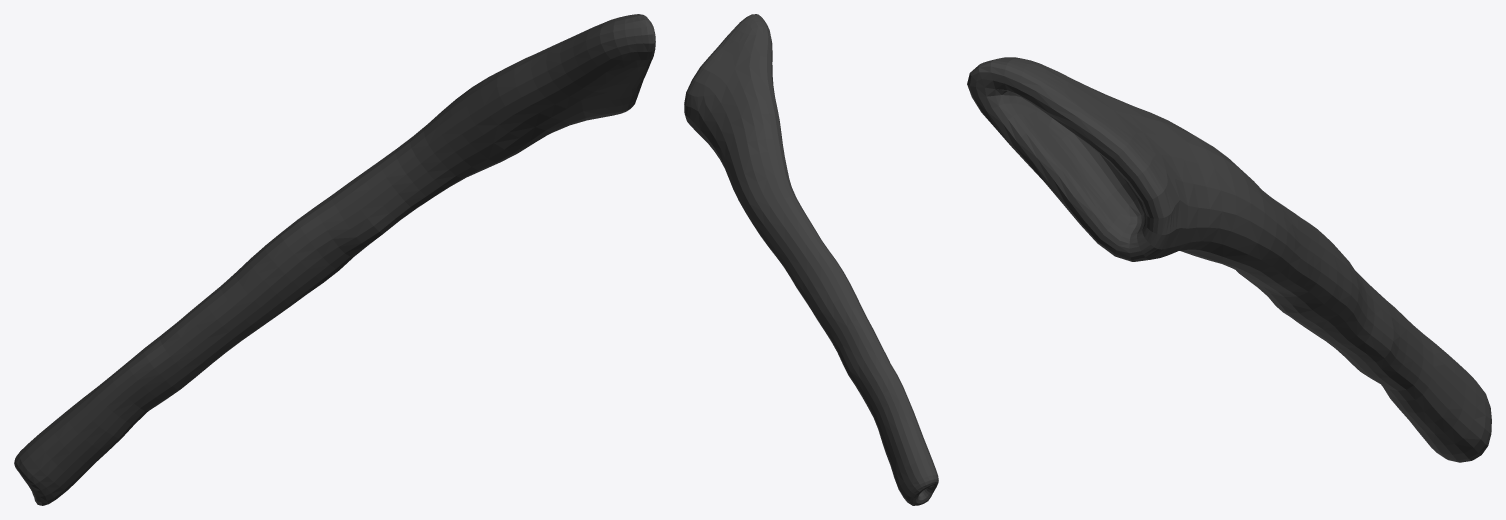
The model's file is CANAL_major_petrosal_nerve_L.glb.
3 renders of one model, left to right at view 1: azimuth 30°, elevation 25°; view 2: azimuth 150°, elevation 25°; view 3: azimuth 270°, elevation 25°, orthographic. The views are drawn at different scales.
Parts seen in each view (by area): view 1: CANAL_major_petrosal_nerve_L; view 2: CANAL_major_petrosal_nerve_L; view 3: CANAL_major_petrosal_nerve_L.
Boxes of the visible parts, left/top/right/bottom form: CANAL_major_petrosal_nerve_L: left=14, top=14, right=655, bottom=505; CANAL_major_petrosal_nerve_L: left=684, top=14, right=938, bottom=505; CANAL_major_petrosal_nerve_L: left=967, top=57, right=1491, bottom=462.
Size of the model in its own units: 0.8917 by 0.8809 by 0.6229.
1 material, 1 textured.
